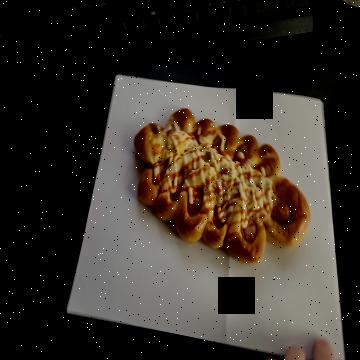pizza_bread: (133, 108, 312, 263)
